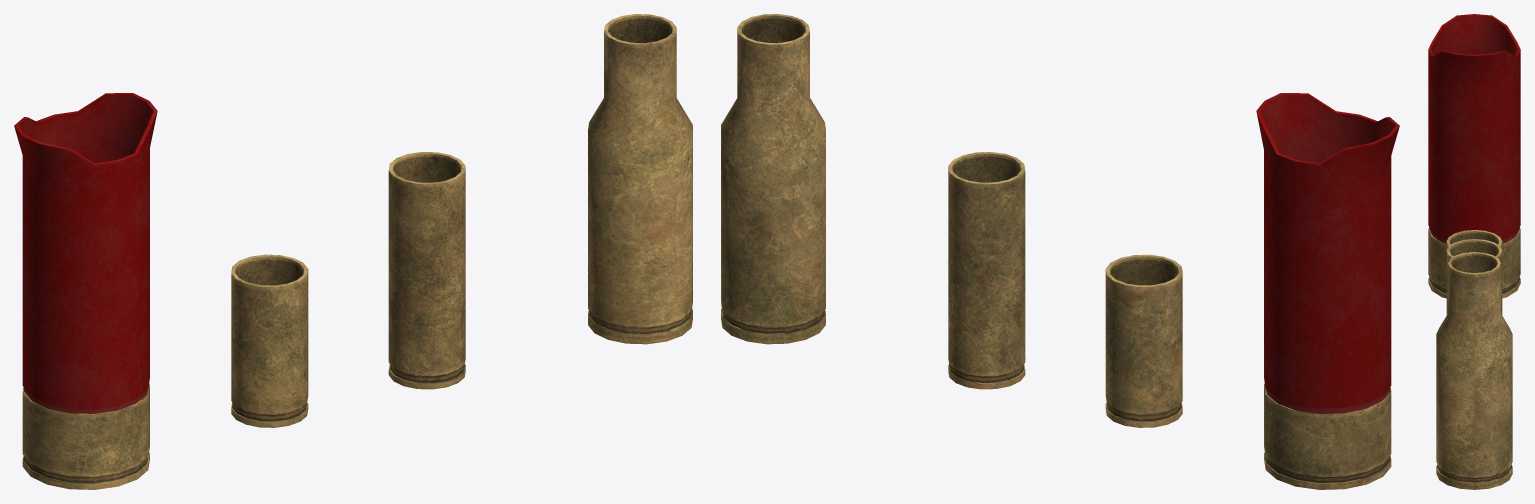
Rendered from shells.fbx.
The picture shows the model from 3 angles, left to right: view 1: azimuth 30°, elevation 25°; view 2: azimuth 150°, elevation 25°; view 3: azimuth 270°, elevation 25°; orthographic projection. The views are drawn at different scales.
Parts seen in each view (by area): view 1: slug, shelllarge, shellmedium, shellsmall; view 2: slug, shelllarge, shellmedium, shellsmall; view 3: slug, shelllarge, shellmedium, shellsmall.
Boxes of the visible parts, <box> form: slug: <box>14,93,157,489</box>; shelllarge: <box>588,14,692,344</box>; shellmedium: <box>388,152,465,389</box>; shellsmall: <box>231,254,308,427</box>; slug: <box>1256,93,1399,489</box>; shelllarge: <box>721,14,825,344</box>; shellmedium: <box>948,152,1025,389</box>; shellsmall: <box>1105,254,1182,427</box>; slug: <box>1428,14,1520,298</box>; shelllarge: <box>1436,252,1512,489</box>; shellmedium: <box>1446,239,1502,314</box>; shellsmall: <box>1446,230,1502,249</box>.
Bounding box in the file's own units: 19.78 × 10.01 × 3.31.
